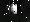person: (7, 2, 13, 15), (11, 5, 17, 15)
